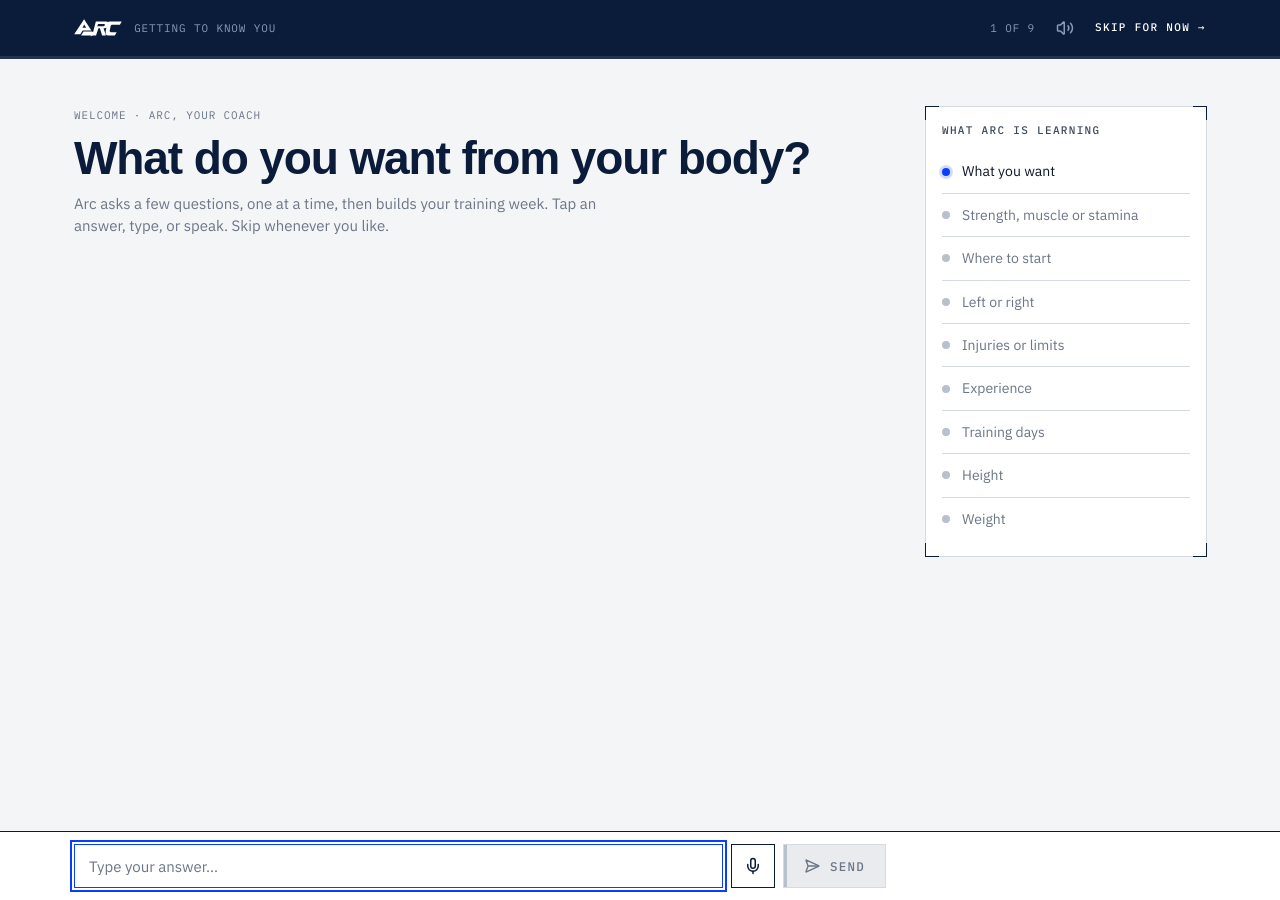
Test: WelcomePage › sends each answer with the whole conversation, and shows Arc the next question
This screenshot has width=1280, height=900.
Type "Get my knee bending again" into the field labelled "Type your answer…". click: (398,866)
box: [74,844,723,888]
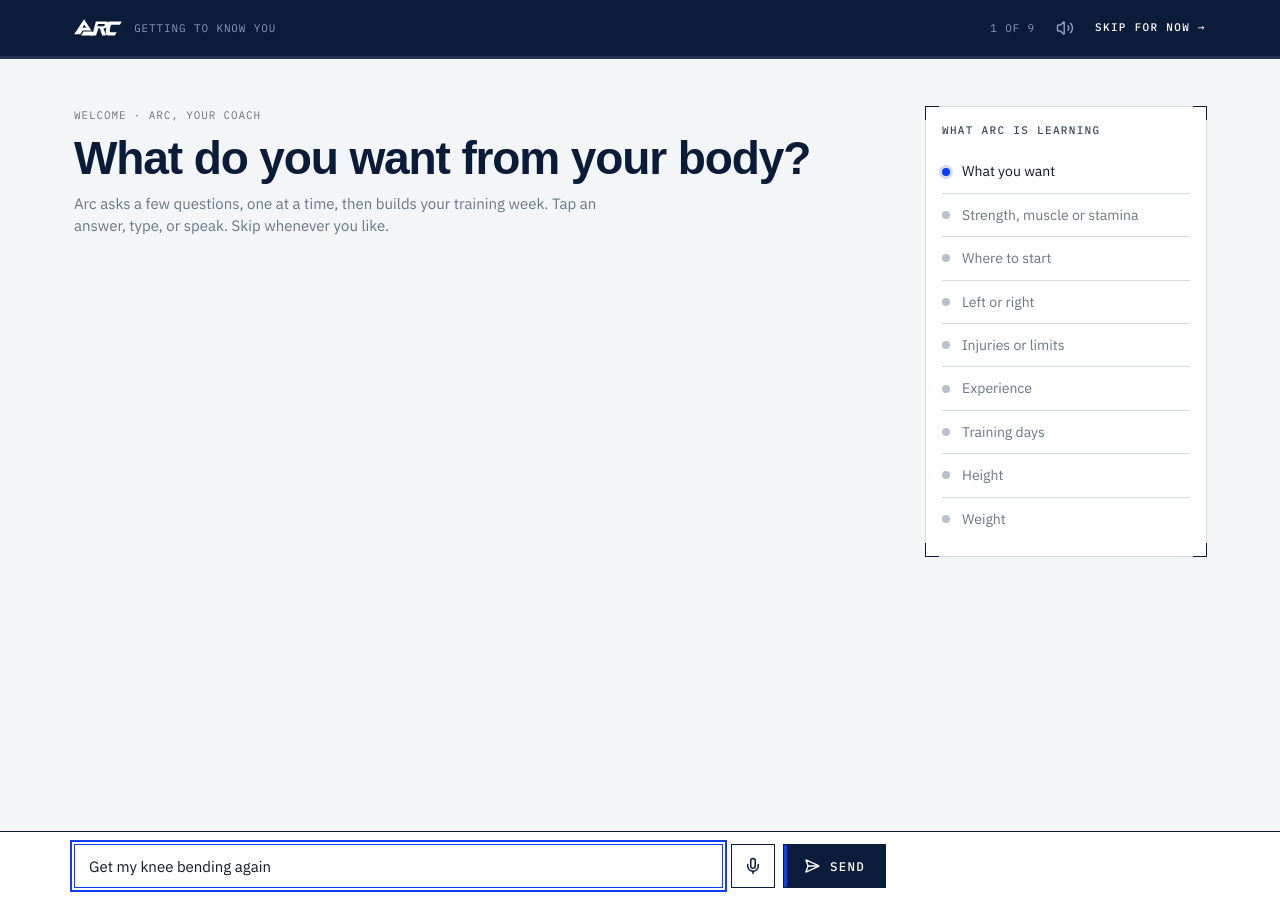
Click the button "Send". click: (834,866)
box: [783,844,886,888]
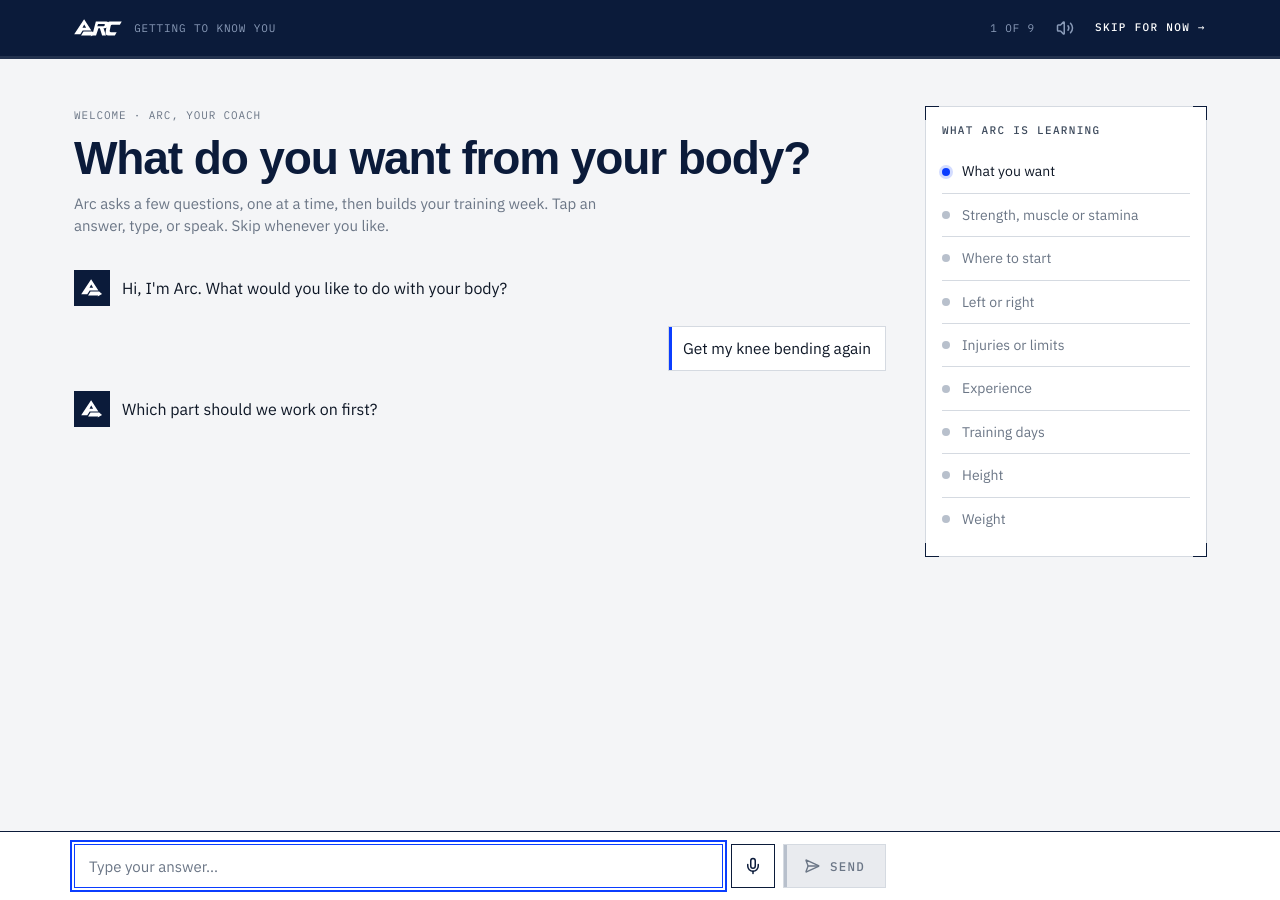
Result: the text "Which part should we work on first?" is shown at [121,398,378,419]
Result: the text "Get my knee bending again" is shown at [668,326,886,371]
